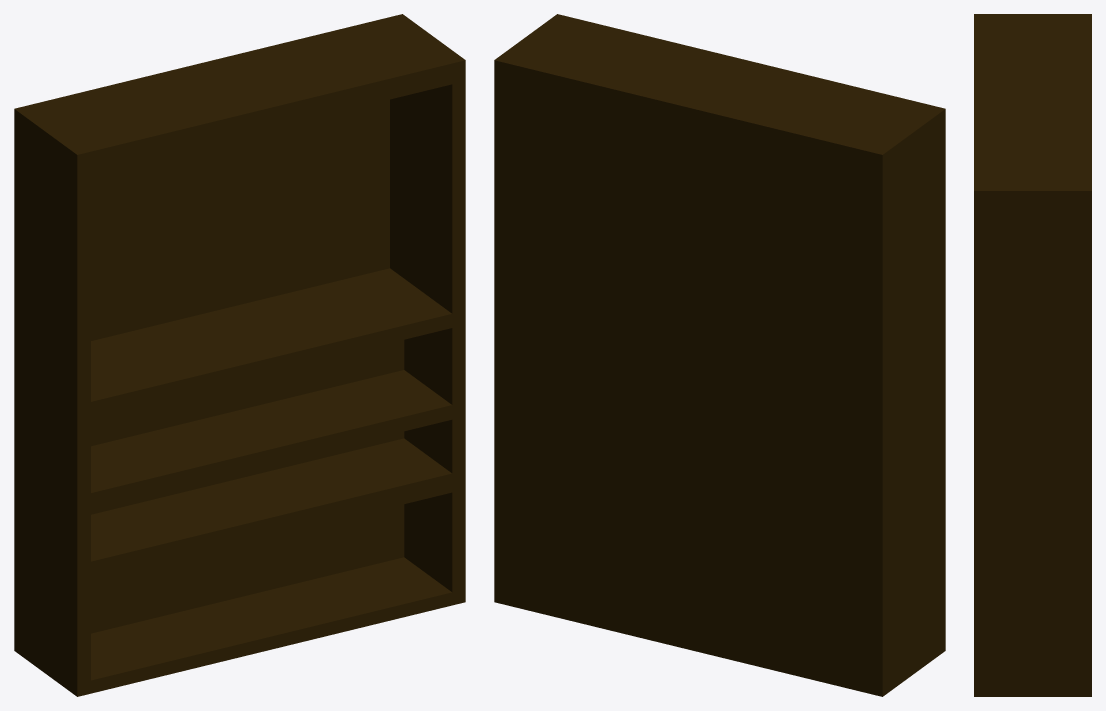
Rendered from Bookshelf.fbx.
3 views of the same model, side by side, from view 1: azimuth 30°, elevation 25°; view 2: azimuth 150°, elevation 25°; view 3: azimuth 270°, elevation 25° (orthographic). The views are drawn at different scales.
Visible parts, largest first — view 1: pCube1; view 2: pCube1; view 3: pCube1.
Part boxes in pixels (x1,y1,x2,y2): pCube1: [14, 14, 465, 696]; pCube1: [494, 14, 945, 696]; pCube1: [974, 14, 1091, 696].
Size of the model in its own units: 1.5 by 2 by 0.4224.
